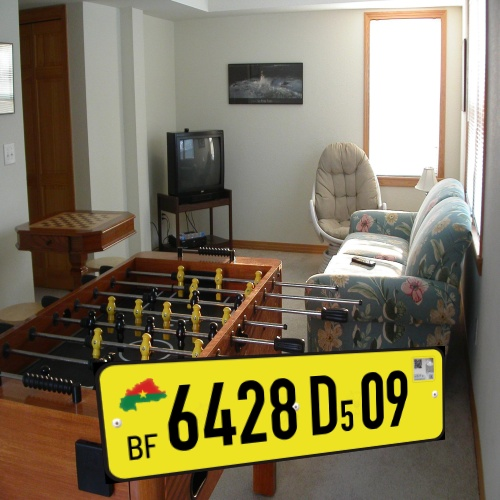plate: (81, 343, 466, 490)
